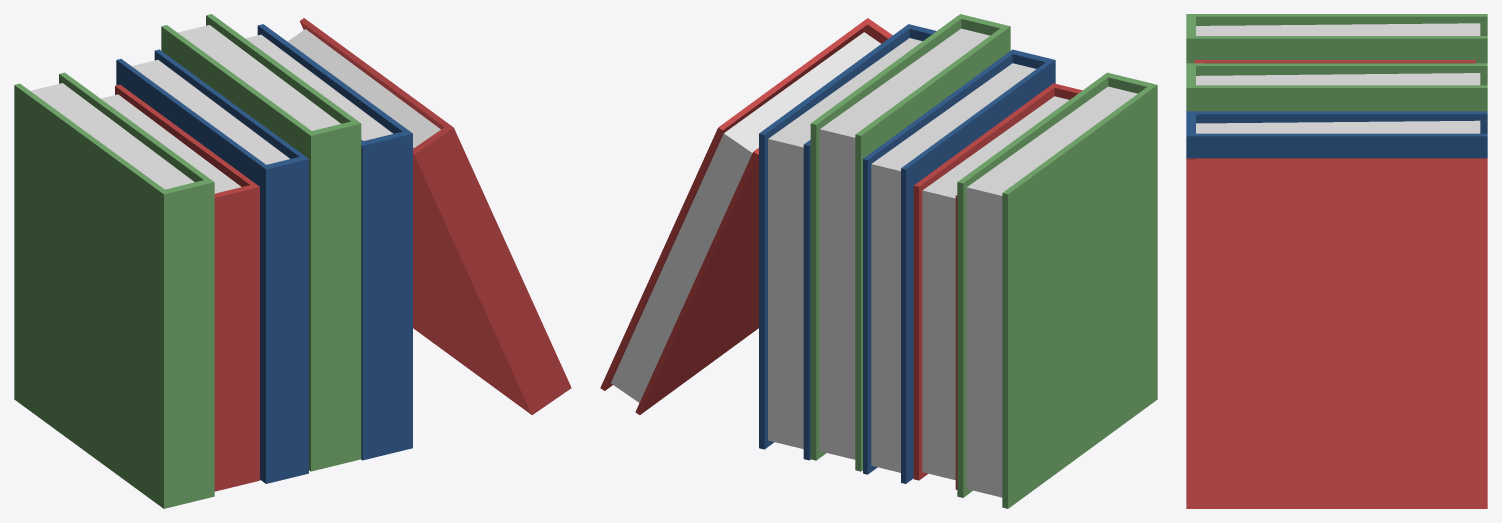
File: Books.fbx
The picture shows the model from 3 angles, left to right: view 1: azimuth 30°, elevation 25°; view 2: azimuth 150°, elevation 25°; view 3: azimuth 270°, elevation 25°; orthographic projection.
Parts seen in each view (by area): view 1: Books; view 2: Books; view 3: Books.
Boxes of the visible parts, x1=… form: Books: x1=14, y1=14, x2=571, y2=508; Books: x1=600, y1=14, x2=1157, y2=508; Books: x1=1186, y1=14, x2=1487, y2=508.
Size of the model in its own units: 0.1972 by 0.1558 by 0.1253.
1 material, 1 textured.
